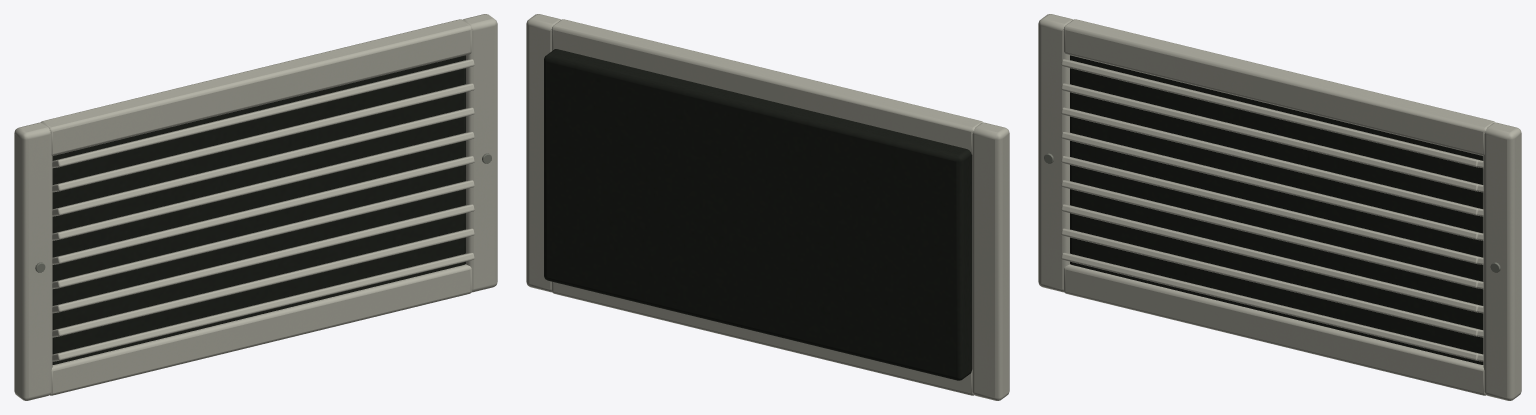
File: wall_vent.gltf
3 renders of one model, left to right at view 1: azimuth 30°, elevation 25°; view 2: azimuth 150°, elevation 25°; view 3: azimuth 330°, elevation 25°, orthographic.
Visible parts, largest first — view 1: wall_vent; view 2: wall_vent; view 3: wall_vent.
Part boxes in pixels (left/top/right/bottom): wall_vent: left=14, top=14, right=497, bottom=400; wall_vent: left=526, top=14, right=1009, bottom=400; wall_vent: left=1038, top=14, right=1521, bottom=400.
Bounding box in the file's own units: 0.607 × 0.327 × 0.0615.
2 materials, 2 textured.
